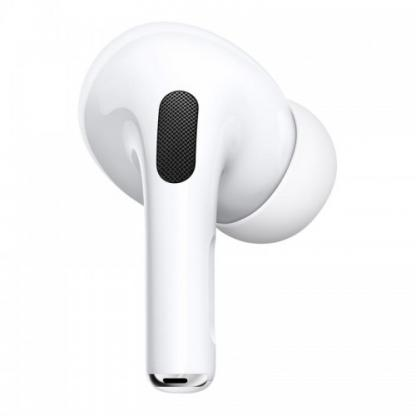Airpods: (72, 12, 350, 398)
